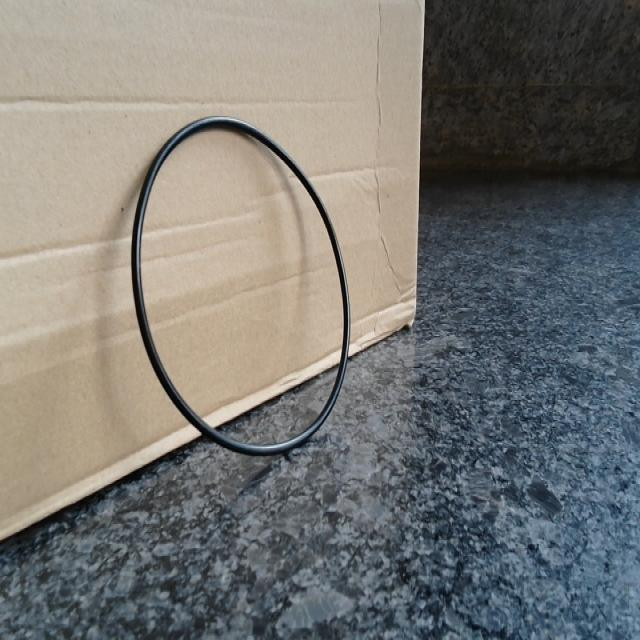black-ring: (132, 117, 351, 455)
